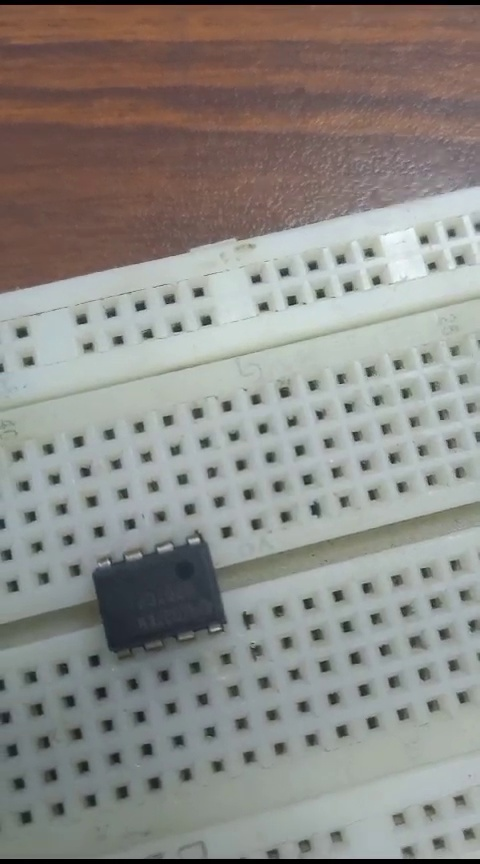IC: (72, 523, 254, 669)
